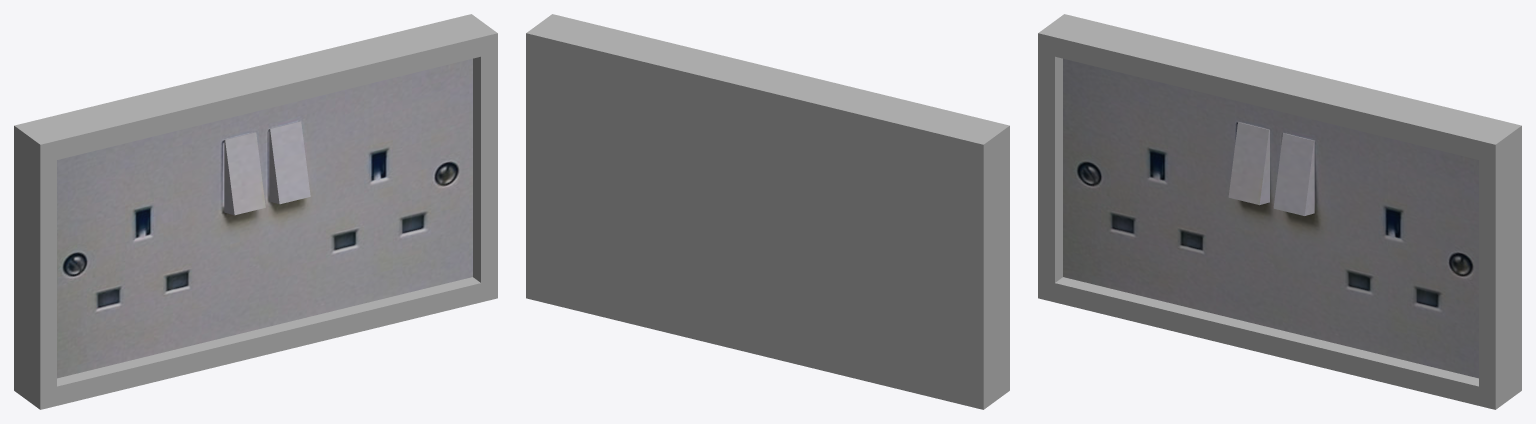
The model's file is socket.FBX.
3 renders of one model, left to right at view 1: azimuth 30°, elevation 25°; view 2: azimuth 150°, elevation 25°; view 3: azimuth 330°, elevation 25°, orthographic.
Visible parts, largest first — view 1: socket; view 2: socket; view 3: socket.
Boxes of the visible parts, left/top/right/bottom form: socket: left=14, top=14, right=497, bottom=409; socket: left=526, top=14, right=1009, bottom=409; socket: left=1038, top=14, right=1521, bottom=409.
Size of the model in its own units: 201 by 21.48 by 112.
1 material, 1 textured.
